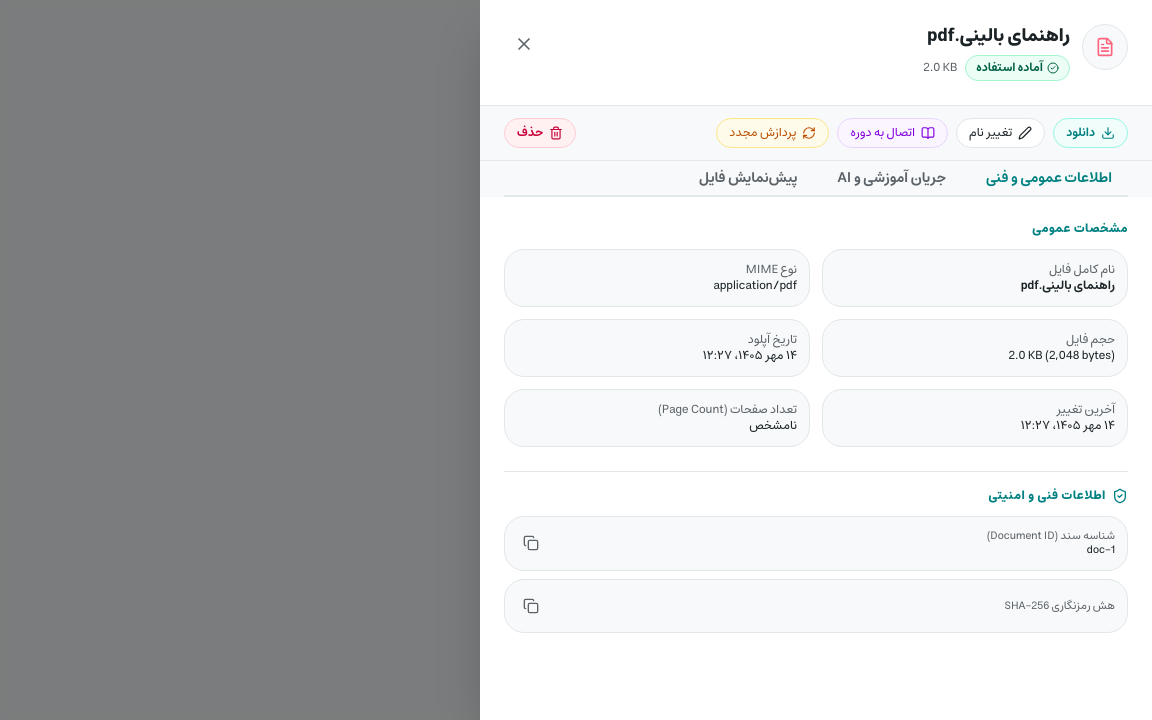
Scenario: Phase 2F — Canonical Tabs & SegmentedControl (@avana/ui) › integrates canonical Tabs in FileDetailsDrawer
Expected: the text "اطلاعات عمومی و فنی" is shown, x1=986 y1=171 x2=1112 y2=185
Expected: the text "جریان آموزشی و AI" is shown, x1=837 y1=171 x2=946 y2=185
// Click on educational tab
Click the button "جریان آموزشی و AI": (892, 179) x1=821 y1=161 x2=962 y2=197
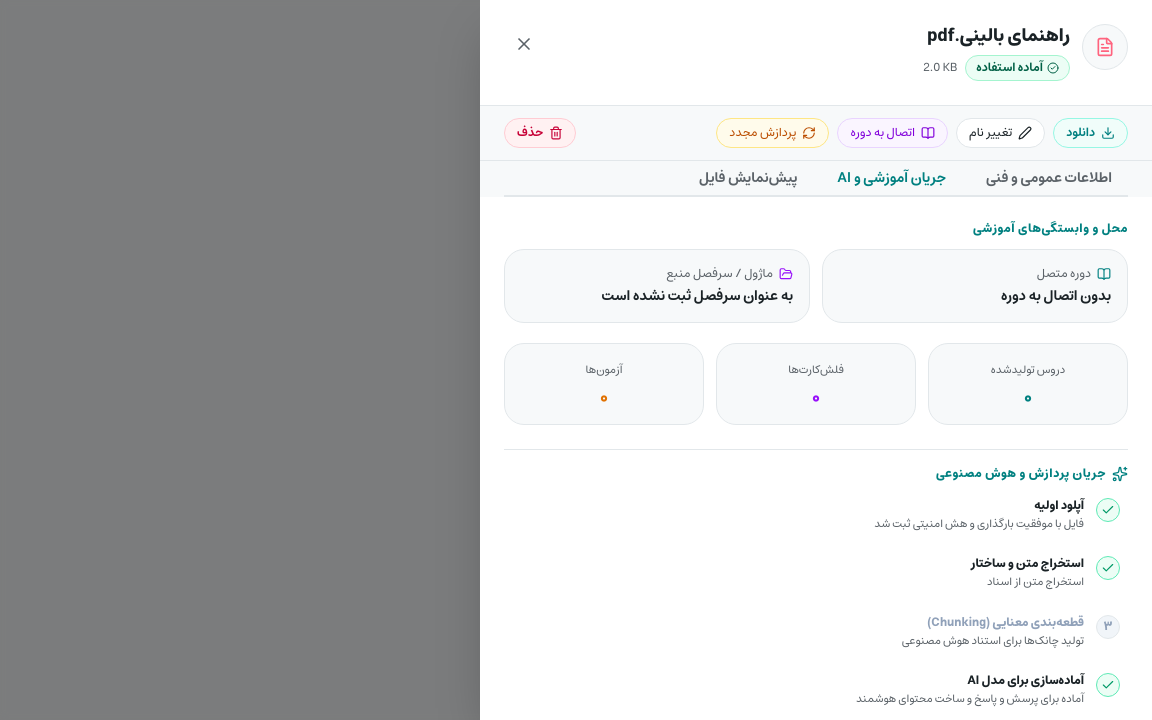
Now the text "دروس تولیدشده" is shown, box x1=991 y1=360 x2=1065 y2=379
